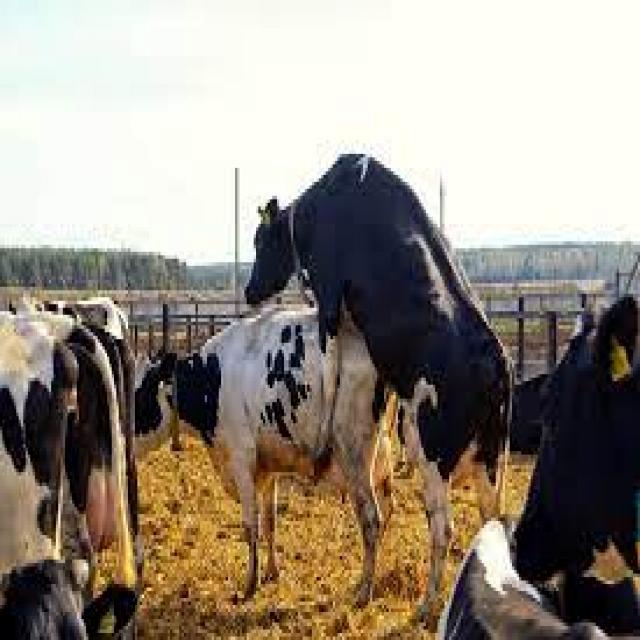COW: (248, 155, 509, 639), (135, 305, 381, 602)
